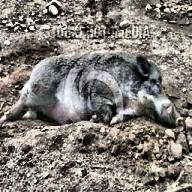boar: (0, 49, 183, 128)
